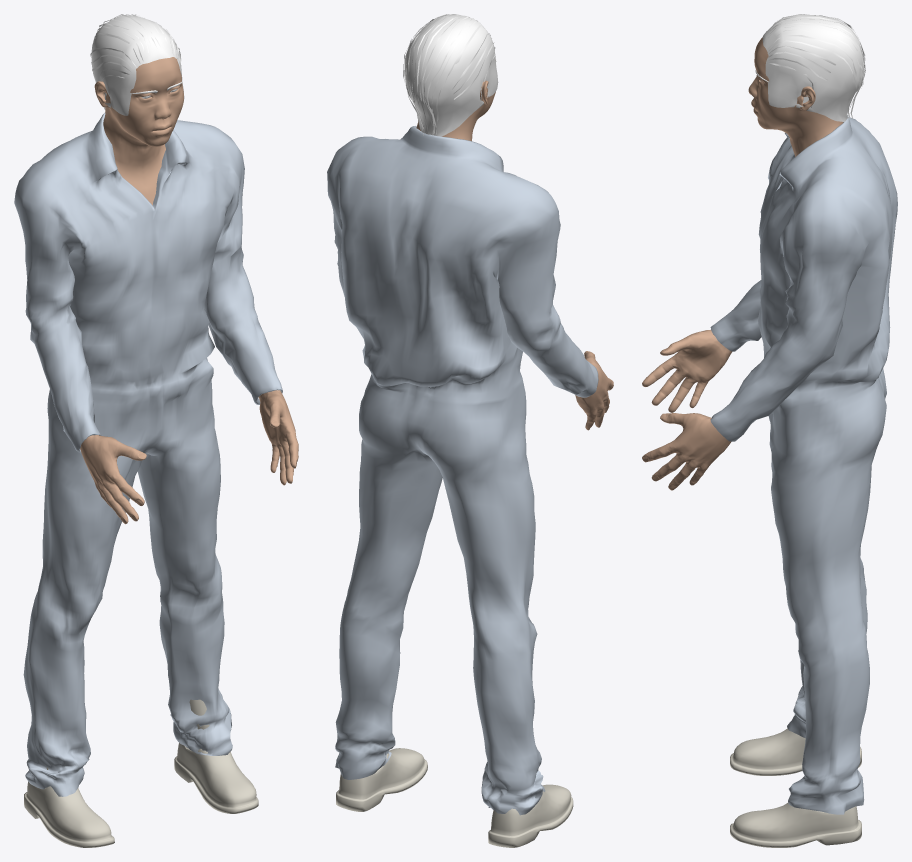
The model's file is young-man.glb.
3 views of the same model, side by side, from view 1: azimuth 30°, elevation 25°; view 2: azimuth 150°, elevation 25°; view 3: azimuth 270°, elevation 25° (orthographic).
Parts seen in each view (by area): view 1: CC0 fitted clothes/male_casualsuit01/male_casualsuit01, smooth human anatomy with per-corner UV seams, CC0 fitted clothes/shoes04/shoes04, CC0 fitted hair/short04/short04; view 2: CC0 fitted clothes/male_casualsuit01/male_casualsuit01, CC0 fitted hair/short04/short04, CC0 fitted clothes/shoes04/shoes04, smooth human anatomy with per-corner UV seams; view 3: CC0 fitted clothes/male_casualsuit01/male_casualsuit01, smooth human anatomy with per-corner UV seams, CC0 fitted hair/short04/short04, CC0 fitted clothes/shoes04/shoes04.
Boxes of the visible parts, x1=… form: CC0 fitted clothes/male_casualsuit01/male_casualsuit01: x1=14, y1=112, x2=282, y2=796; smooth human anatomy with per-corner UV seams: x1=80, y1=57, x2=298, y2=524; CC0 fitted clothes/shoes04/shoes04: x1=24, y1=699, x2=258, y2=847; CC0 fitted hair/short04/short04: x1=90, y1=14, x2=184, y2=115; CC0 fitted clothes/male_casualsuit01/male_casualsuit01: x1=327, y1=126, x2=598, y2=815; CC0 fitted hair/short04/short04: x1=403, y1=14, x2=498, y2=136; CC0 fitted clothes/shoes04/shoes04: x1=336, y1=748, x2=573, y2=847; smooth human anatomy with per-corner UV seams: x1=416, y1=80, x2=613, y2=430; CC0 fitted clothes/male_casualsuit01/male_casualsuit01: x1=710, y1=115, x2=897, y2=814; smooth human anatomy with per-corner UV seams: x1=642, y1=37, x2=843, y2=490; CC0 fitted hair/short04/short04: x1=762, y1=14, x2=865, y2=121; CC0 fitted clothes/shoes04/shoes04: x1=730, y1=728, x2=861, y2=847.
Bounding box in the file's own units: 0.517 × 1.79 × 0.5285.
